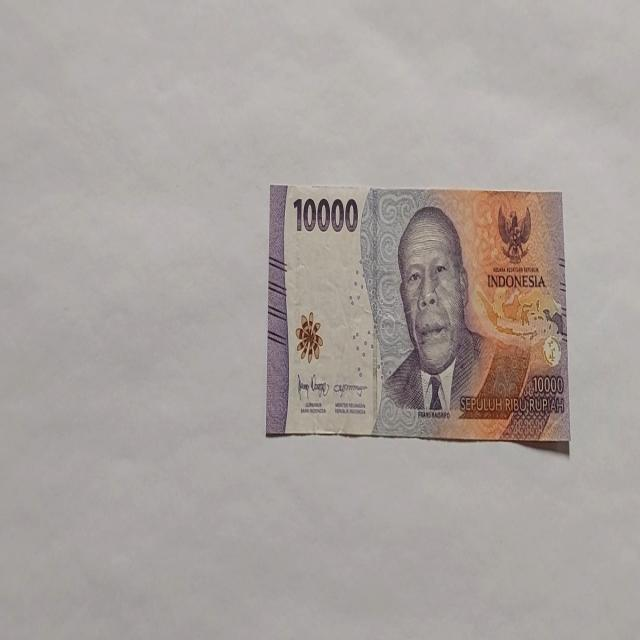sepuluh ribu rupiah: (265, 181, 571, 447), (372, 204, 497, 436)
